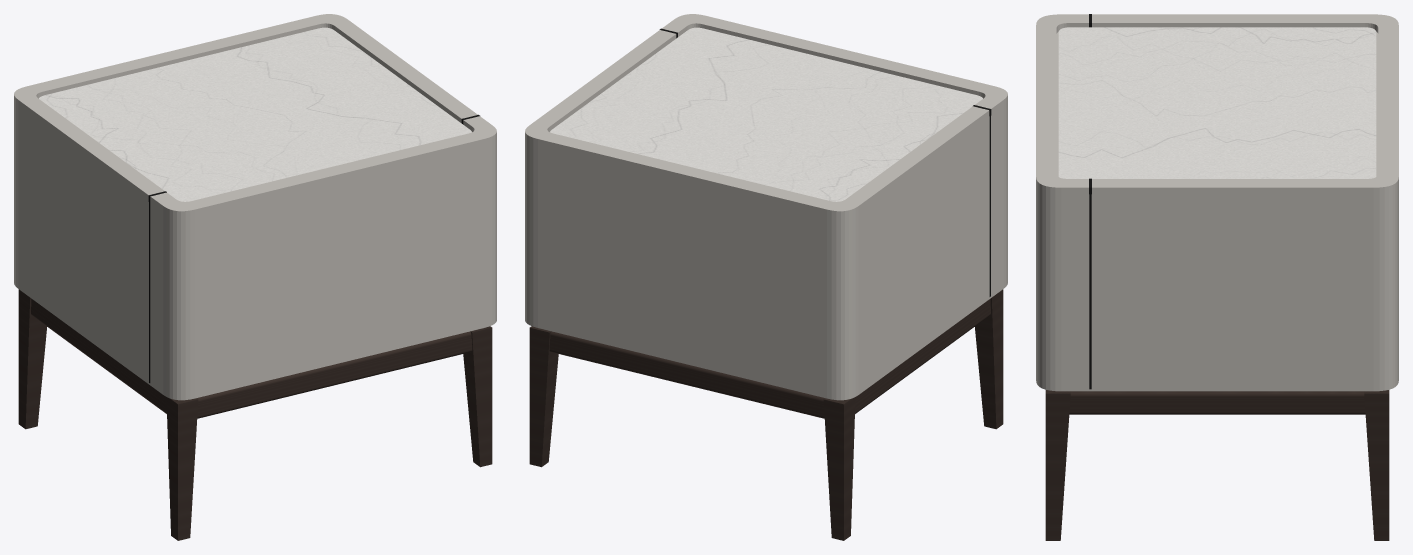
File: ownTawuBox.glb
The picture shows the model from 3 angles, left to right: view 1: azimuth 30°, elevation 25°; view 2: azimuth 150°, elevation 25°; view 3: azimuth 270°, elevation 25°; orthographic projection. The views are drawn at different scales.
Size of the model in its own units: 0.521 by 0.5003 by 0.46.
Materials: 4 (2 with a texture image).
